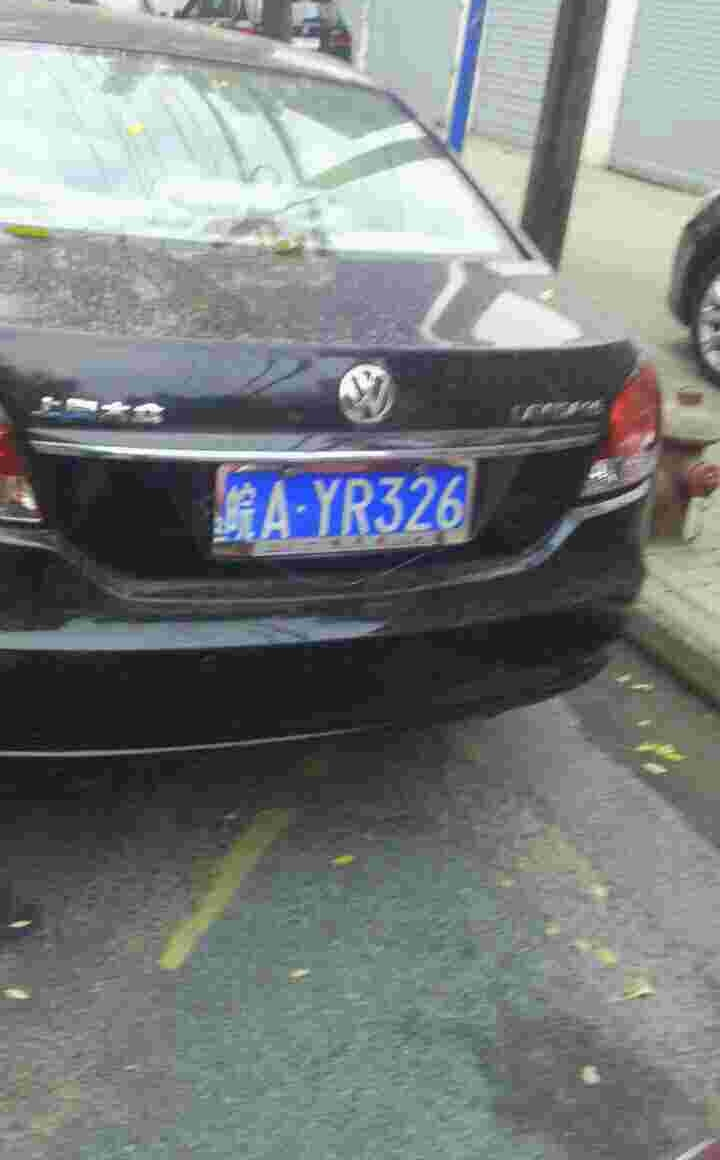license_plate: (225, 462, 472, 547)
